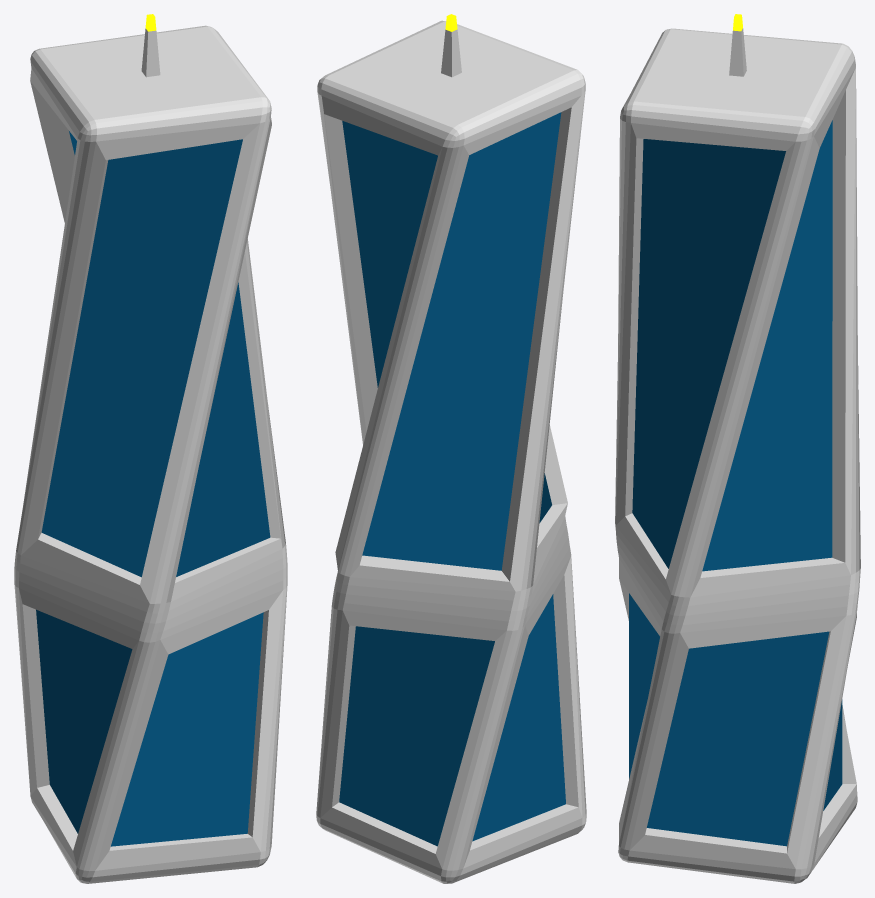
File: BP_Skyscraper_4.fbx
3 views of the same model, side by side, from view 1: azimuth 30°, elevation 25°; view 2: azimuth 150°, elevation 25°; view 3: azimuth 270°, elevation 25° (orthographic).
Parts seen in each view (by area): view 1: Cube.024; view 2: Cube.024; view 3: Cube.024.
Boxes of the visible parts, x1,y1,x2,y2 form: Cube.024: [14, 14, 287, 883]; Cube.024: [316, 14, 586, 883]; Cube.024: [615, 14, 860, 883].
Bounding box in the file's own units: 139 × 511 × 139.
